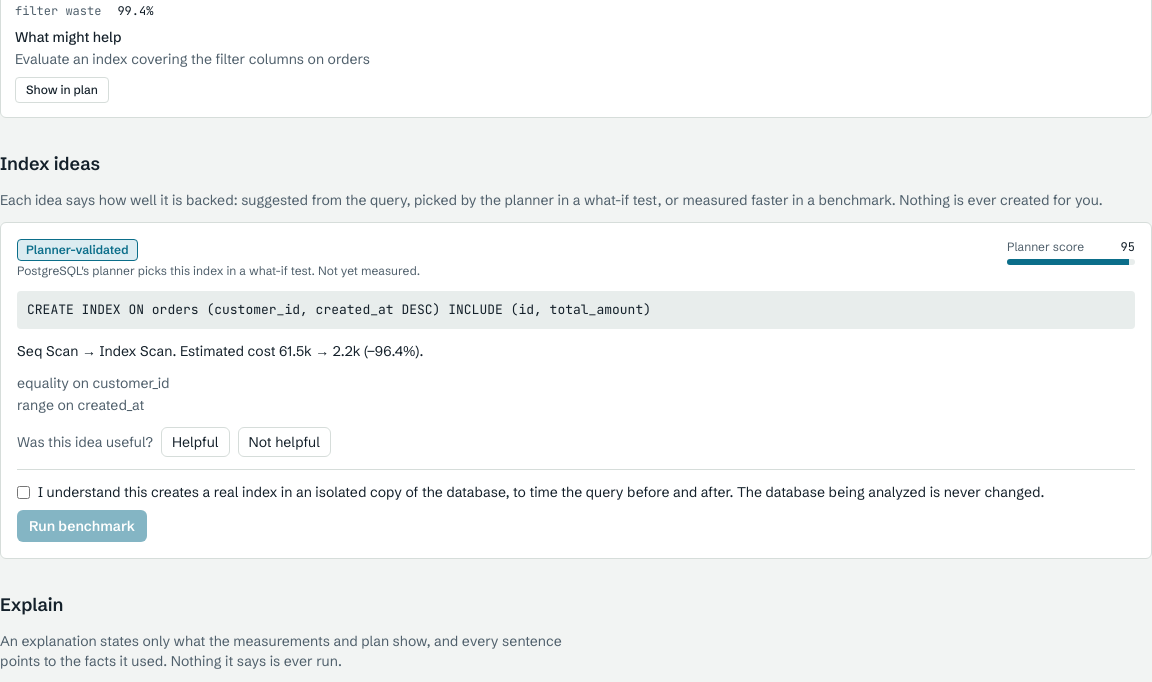
AnalysisResult › benchmarks › explains why an approval was refused
The width and height of the screenshot is (1152, 682).
(page scrolled)
Click the checkbox labelled "real index in an isolated copy": (24, 492) [17,486,30,499]
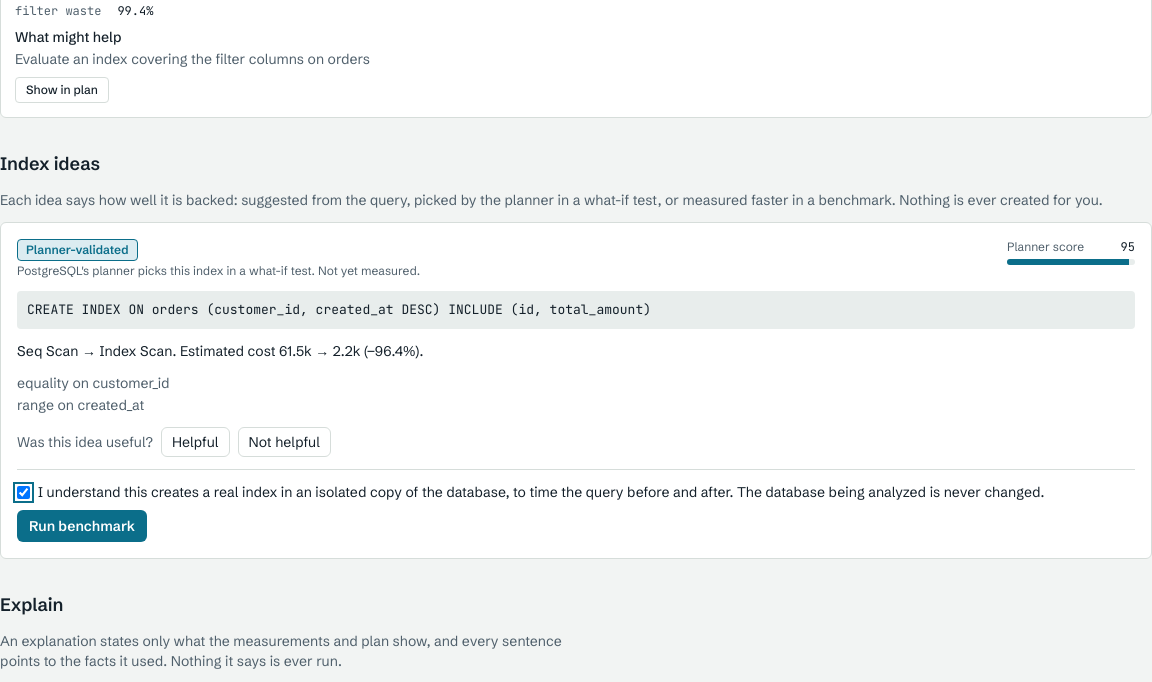
Click the button "Run benchmark": (82, 526) [17,510,147,542]
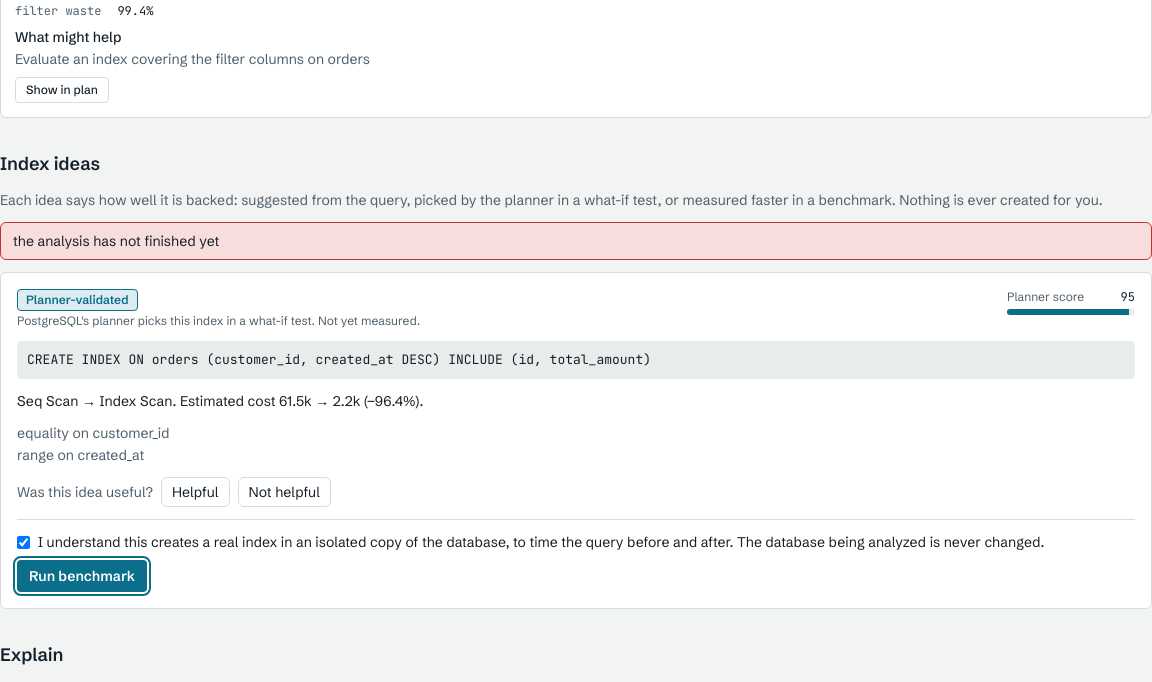
Now the message reads "the analysis has not finished yet", box [13,232,219,250]
